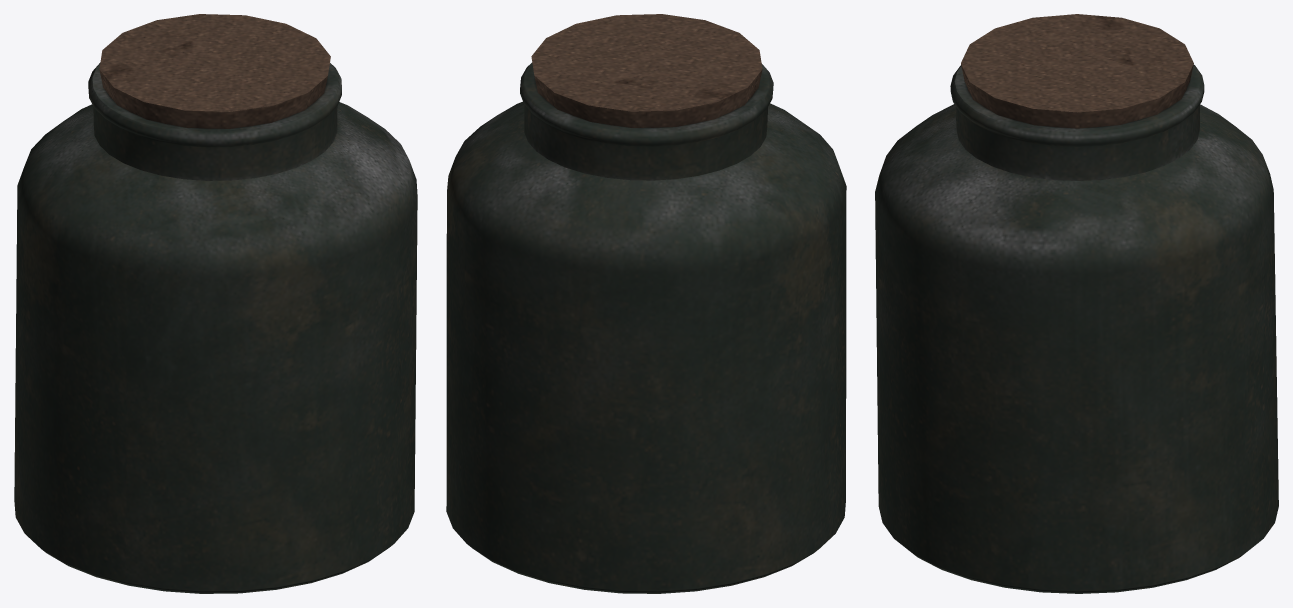
File: SM_Bottles_1.fbx
3 renders of one model, left to right at view 1: azimuth 30°, elevation 25°; view 2: azimuth 150°, elevation 25°; view 3: azimuth 270°, elevation 25°, orthographic.
Parts seen in each view (by area): view 1: SM_Bottles_1_LOD0; view 2: SM_Bottles_1_LOD0; view 3: SM_Bottles_1_LOD0.
Part boxes in pixels (x1,y1,x2,y2): SM_Bottles_1_LOD0: [14, 14, 417, 593]; SM_Bottles_1_LOD0: [446, 14, 846, 593]; SM_Bottles_1_LOD0: [875, 14, 1278, 593].
Bounding box in the file's own units: 18.64 × 18.74 × 22.98.
